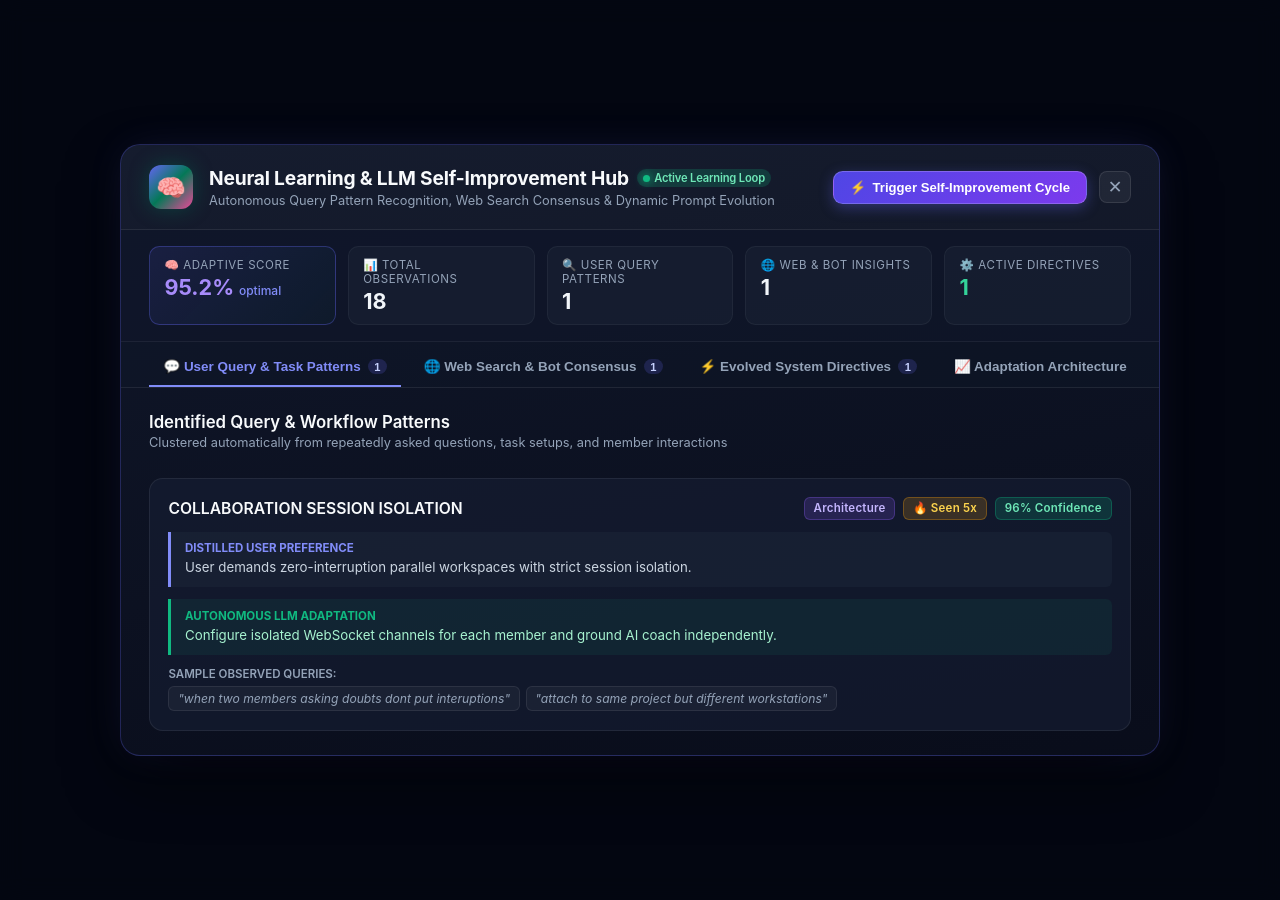
Test: Neural Learning & LLM Self-Improvement Hub › renders and allows switching between the 4 improvement tabs
Check: the heading "COLLABORATION SESSION ISOLATION" is shown, box left=168, top=499, right=463, bottom=518
Click the button "🌐 Web Search & Bot Consensus 1" at (543, 368), box left=409, top=349, right=677, bottom=387
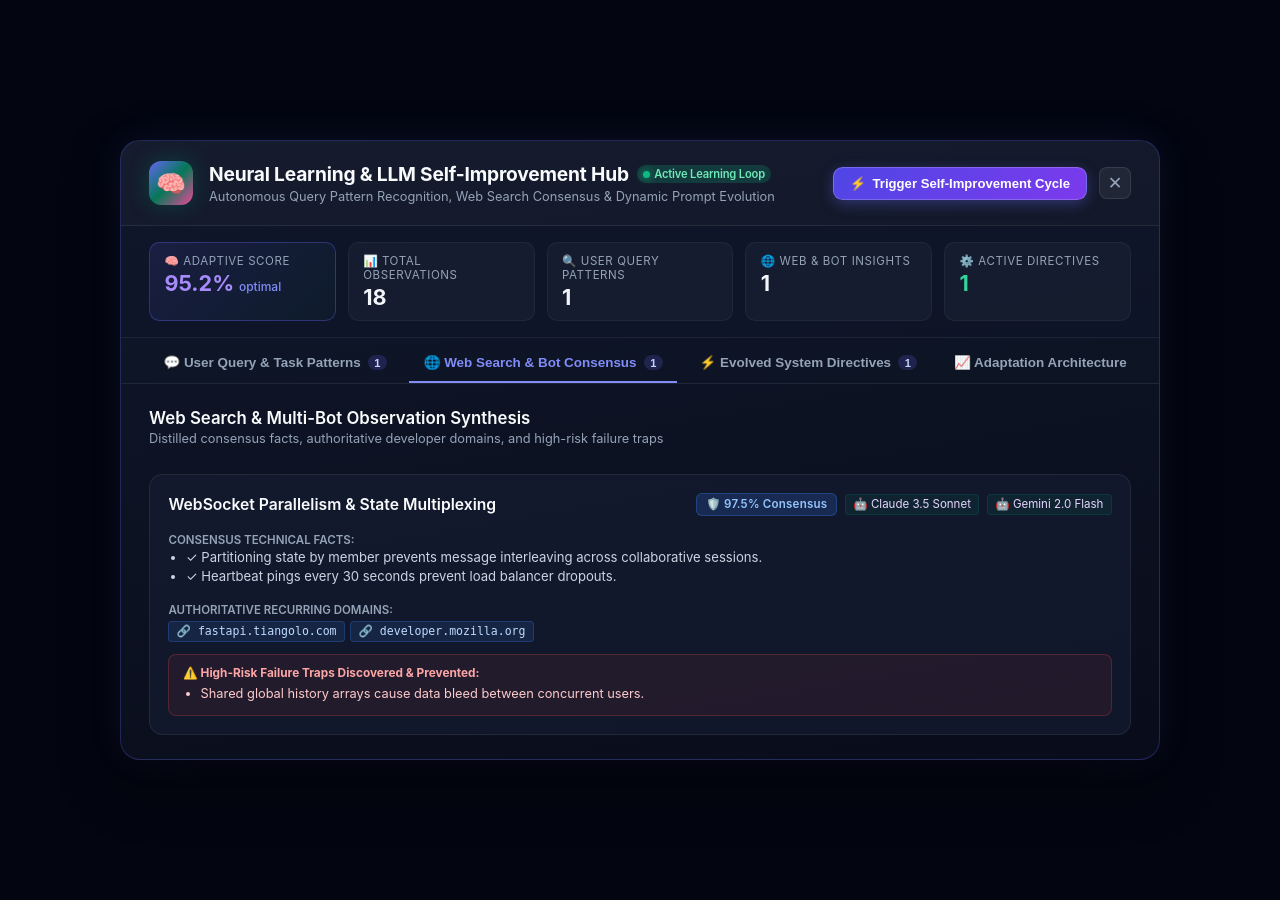
Check: the heading "WebSocket Parallelism & State Multiplexing" is shown, box left=168, top=495, right=496, bottom=514
Check: the list item "Shared global history arrays cause data bleed" is shown, box left=201, top=686, right=644, bottom=701
Click the button "⚡ Evolved System Directives 1" at (808, 364), box left=685, top=345, right=932, bottom=383
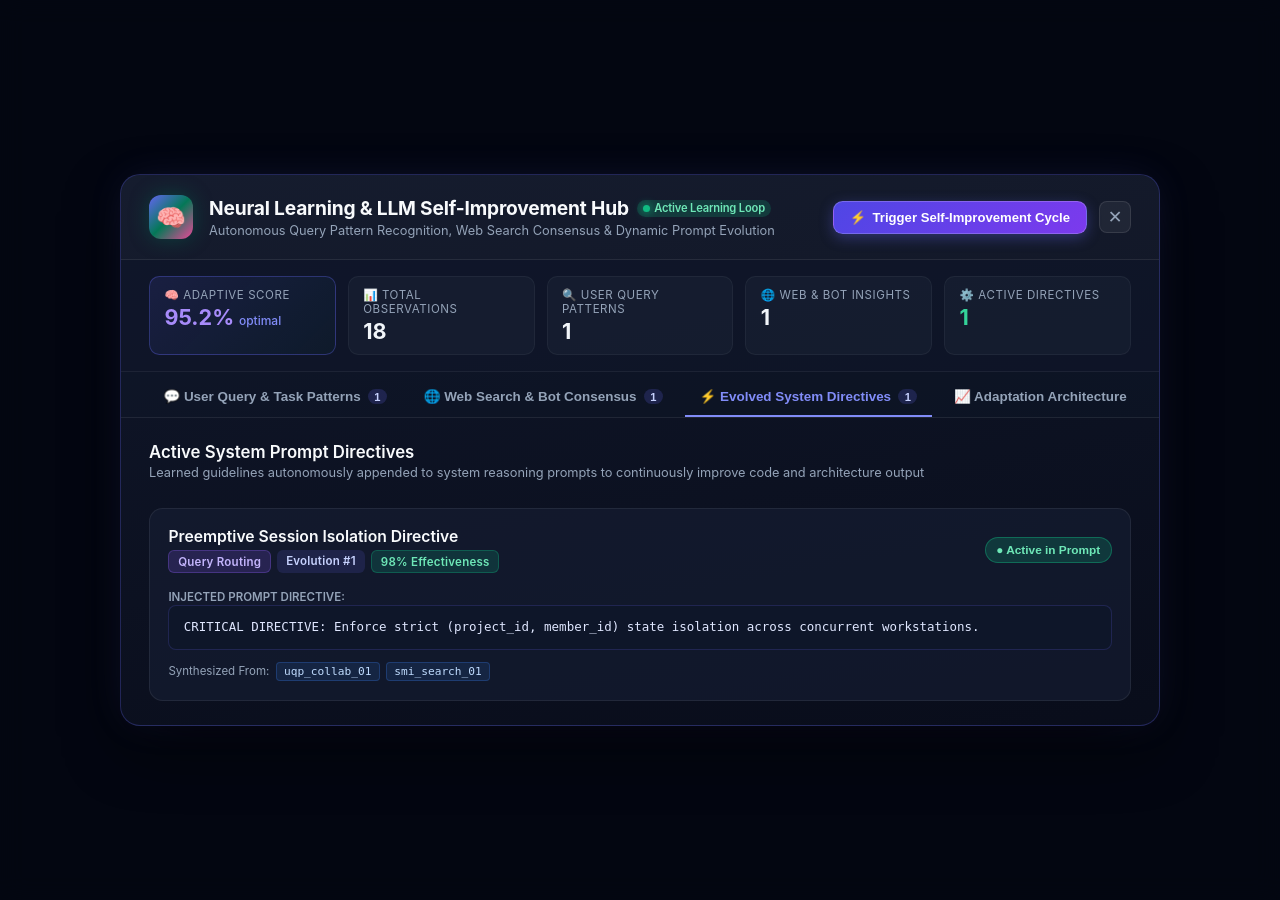
Check: the heading "Preemptive Session Isolation Directive" is shown, box left=168, top=527, right=499, bottom=546
Check: the text "● Active in Prompt" is shown, box left=996, top=543, right=1100, bottom=557
// Switch to Tab 4: Adaptation Architecture
Click the button "📈 Adaptation Architecture" at (1040, 398), box left=940, top=379, right=1141, bottom=417
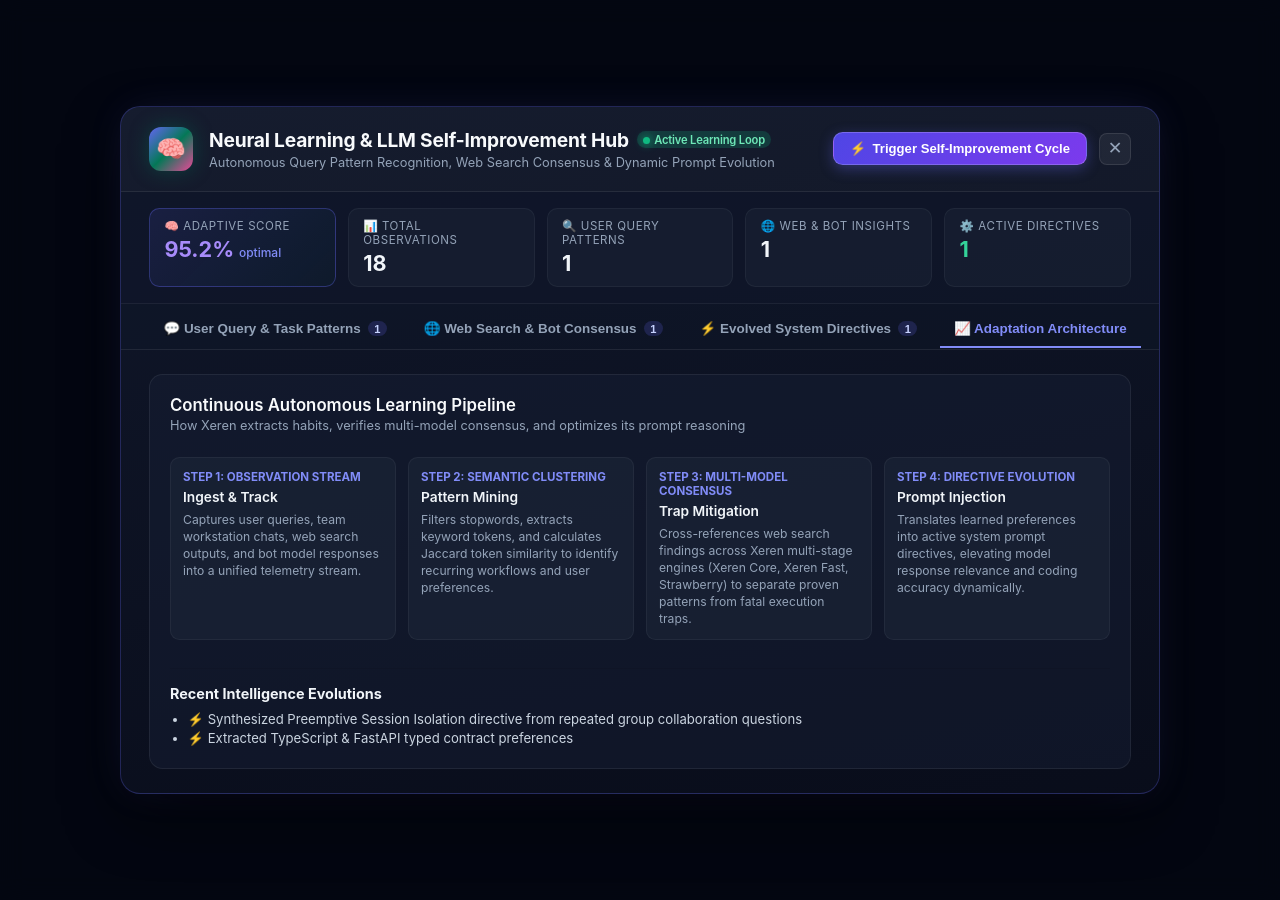
Check: the heading "Continuous Autonomous Learning Pipeline" is shown, box left=170, top=394, right=516, bottom=414
Check: the text "Step 1: Observation Stream" is shown, box left=183, top=470, right=383, bottom=484
